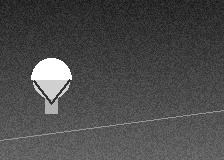helmet: (31, 58, 71, 103)
